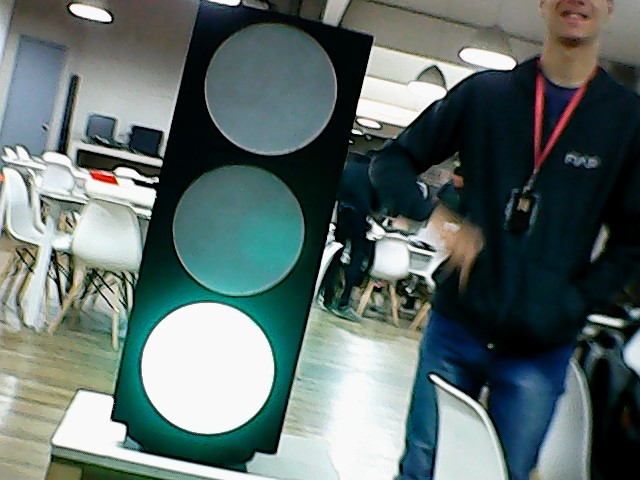verde: (98, 2, 381, 461)
